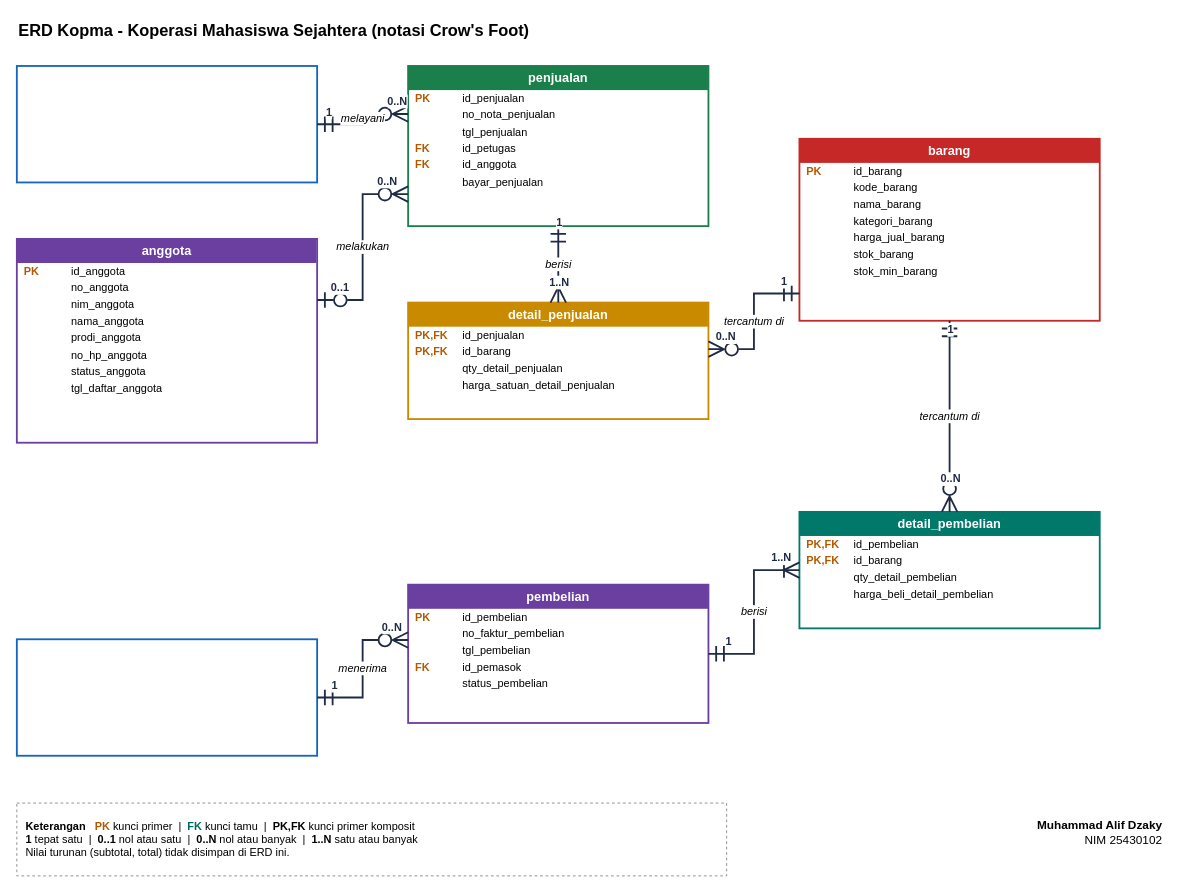
This 1178x892 diagram has some shape labels left out. Each missing label, with the centre of its shape:
pemasok PK id_pemasok nama_pemasok telepon_pemasok alamat_pemasok: point 166,697
petugas PK id_petugas kode_petugas nama_petugas peran_petugas: point 166,124
